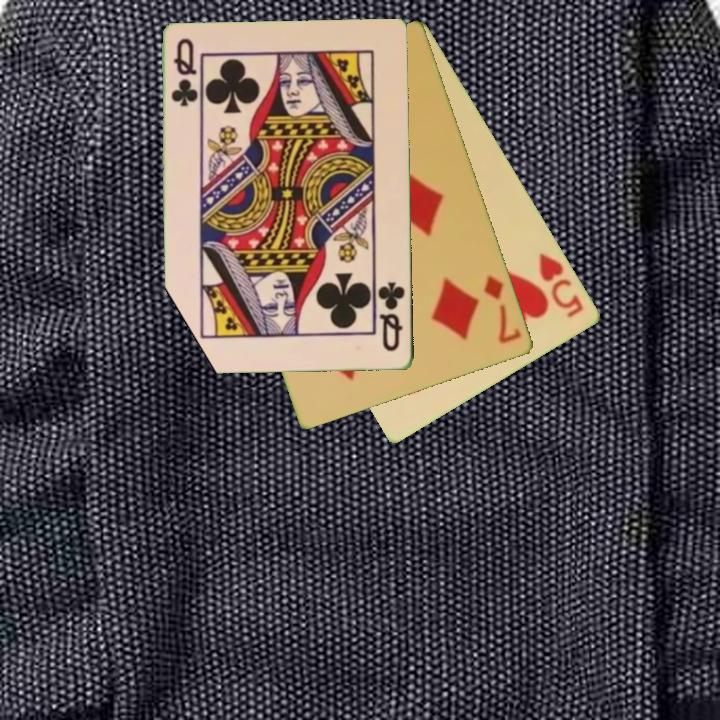5h: (536, 249, 587, 321)
7d: (480, 272, 525, 347)
Qc: (375, 279, 408, 355), (168, 35, 199, 110)
